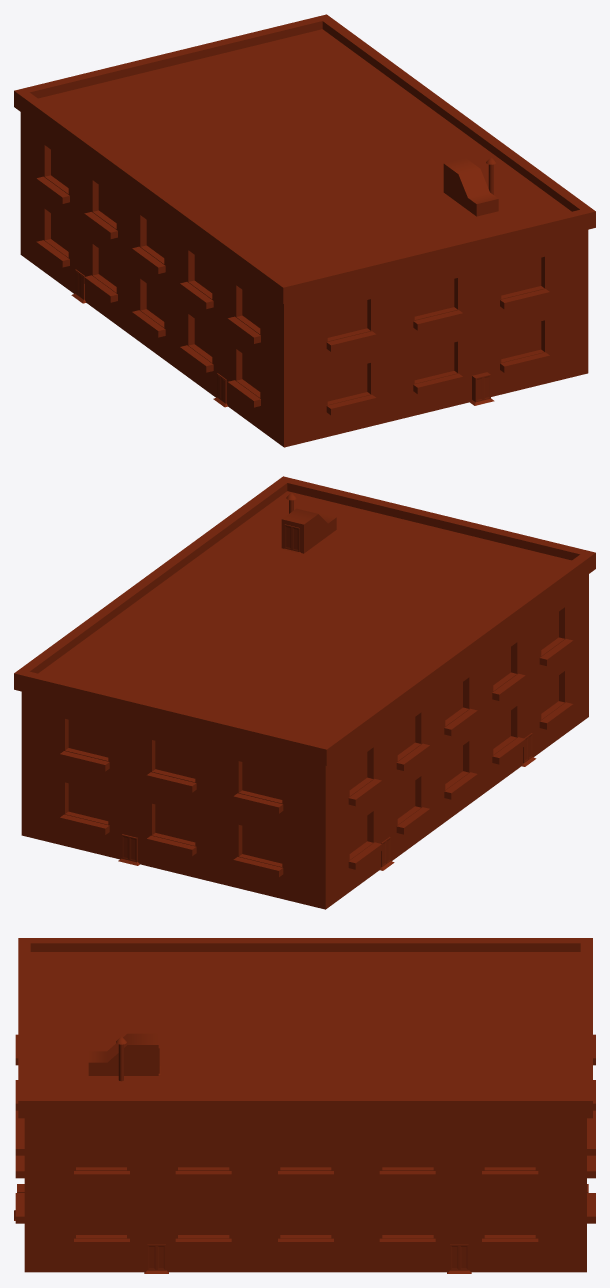
File: Bulding 1.FBX
3 views of the same model, one above another, from view 1: azimuth 30°, elevation 25°; view 2: azimuth 150°, elevation 25°; view 3: azimuth 270°, elevation 25° (orthographic). The views are drawn at different scales.
Parts seen in each view (by area): view 1: Building; view 2: Building; view 3: Building.
Boxes of the visible parts, x1,y1,x2,y2 form: Building: (14,14,595,447); Building: (14,476,595,909); Building: (14,938,595,1273).
Bounding box in the file's own units: 1645 × 970 × 2446.
